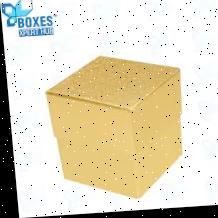cube: (41, 52, 189, 206)
